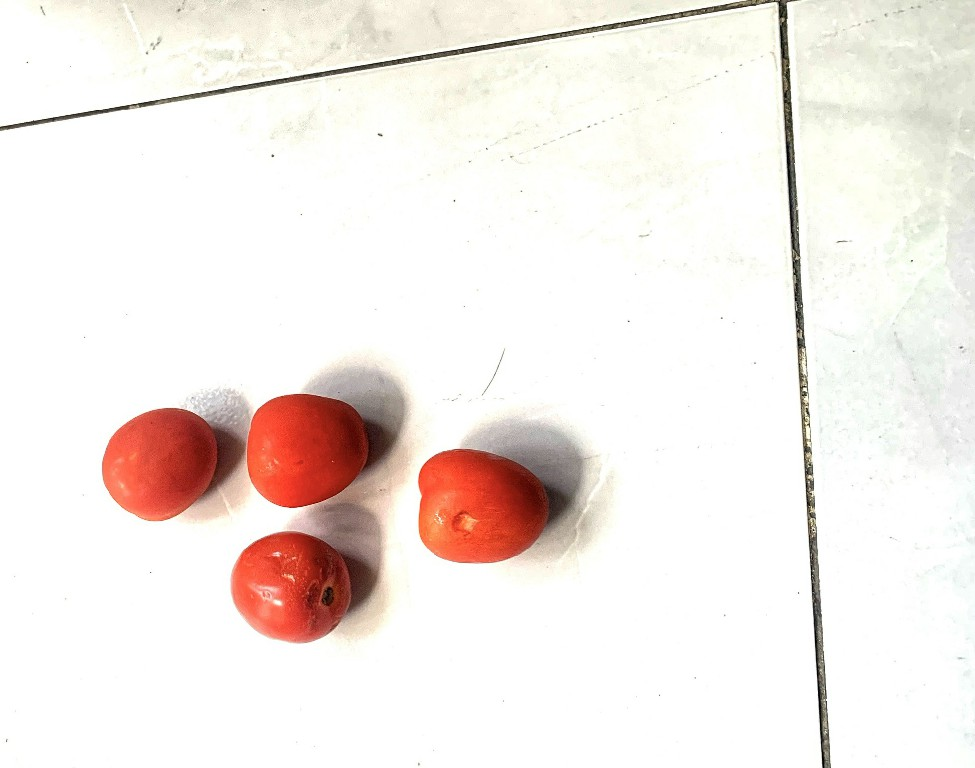NG: (416, 447, 550, 568), (232, 531, 354, 636)
OK: (243, 390, 370, 508), (102, 407, 218, 519)
